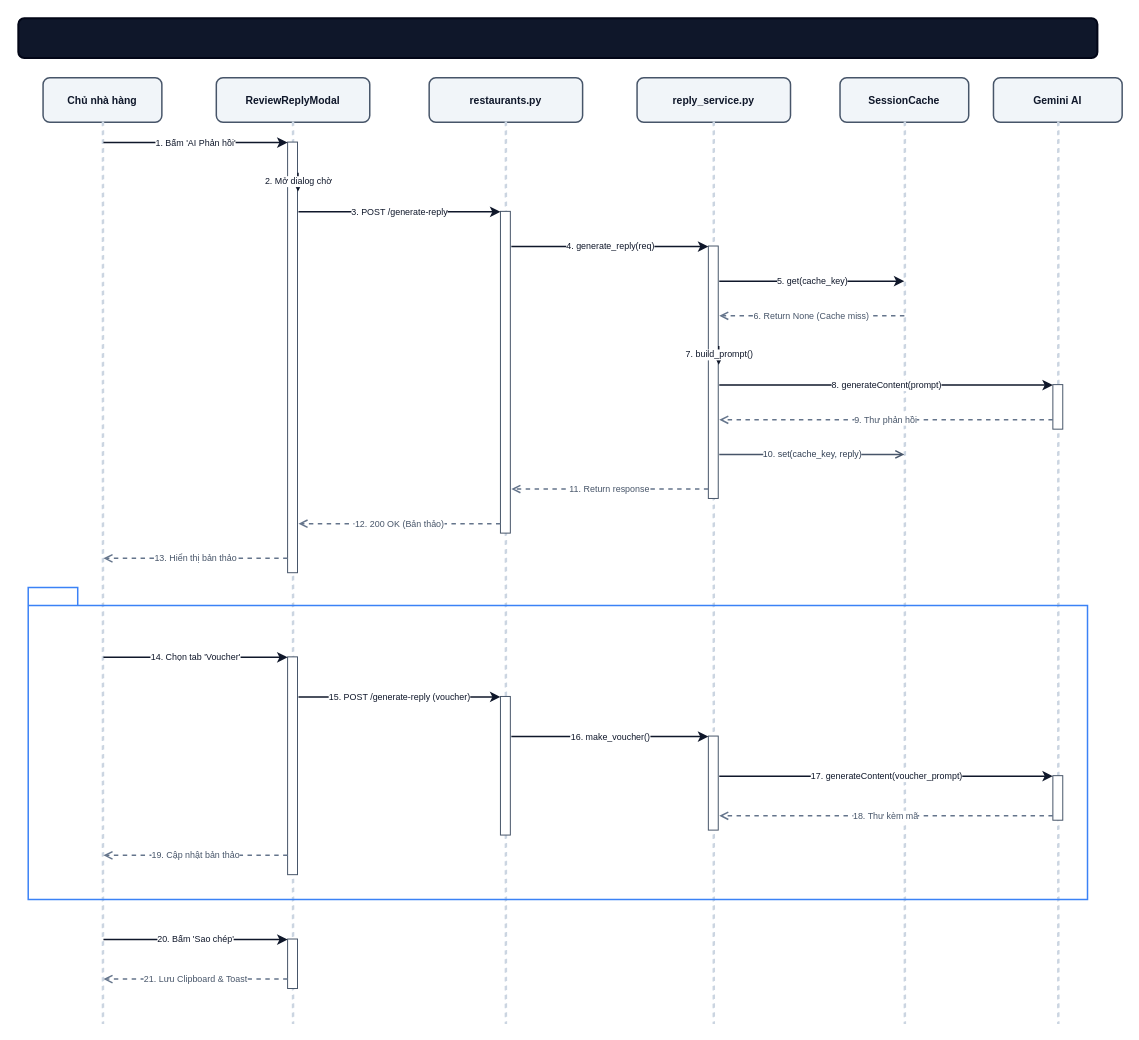
Some shapes in this 1139 by 1040 pixel diagram are drawn without their labels. Here are the shapes that lost their labels. From the top down, the box of each, then its label:
(17, 17, 1098, 58): SƠ ĐỒ TUẦN TỰ (UML SEQUENCE DIAGRAM — AI REVIEW RESPONDER)
(27, 586, 1088, 900): opt: [Đổi sang tông Voucher]
